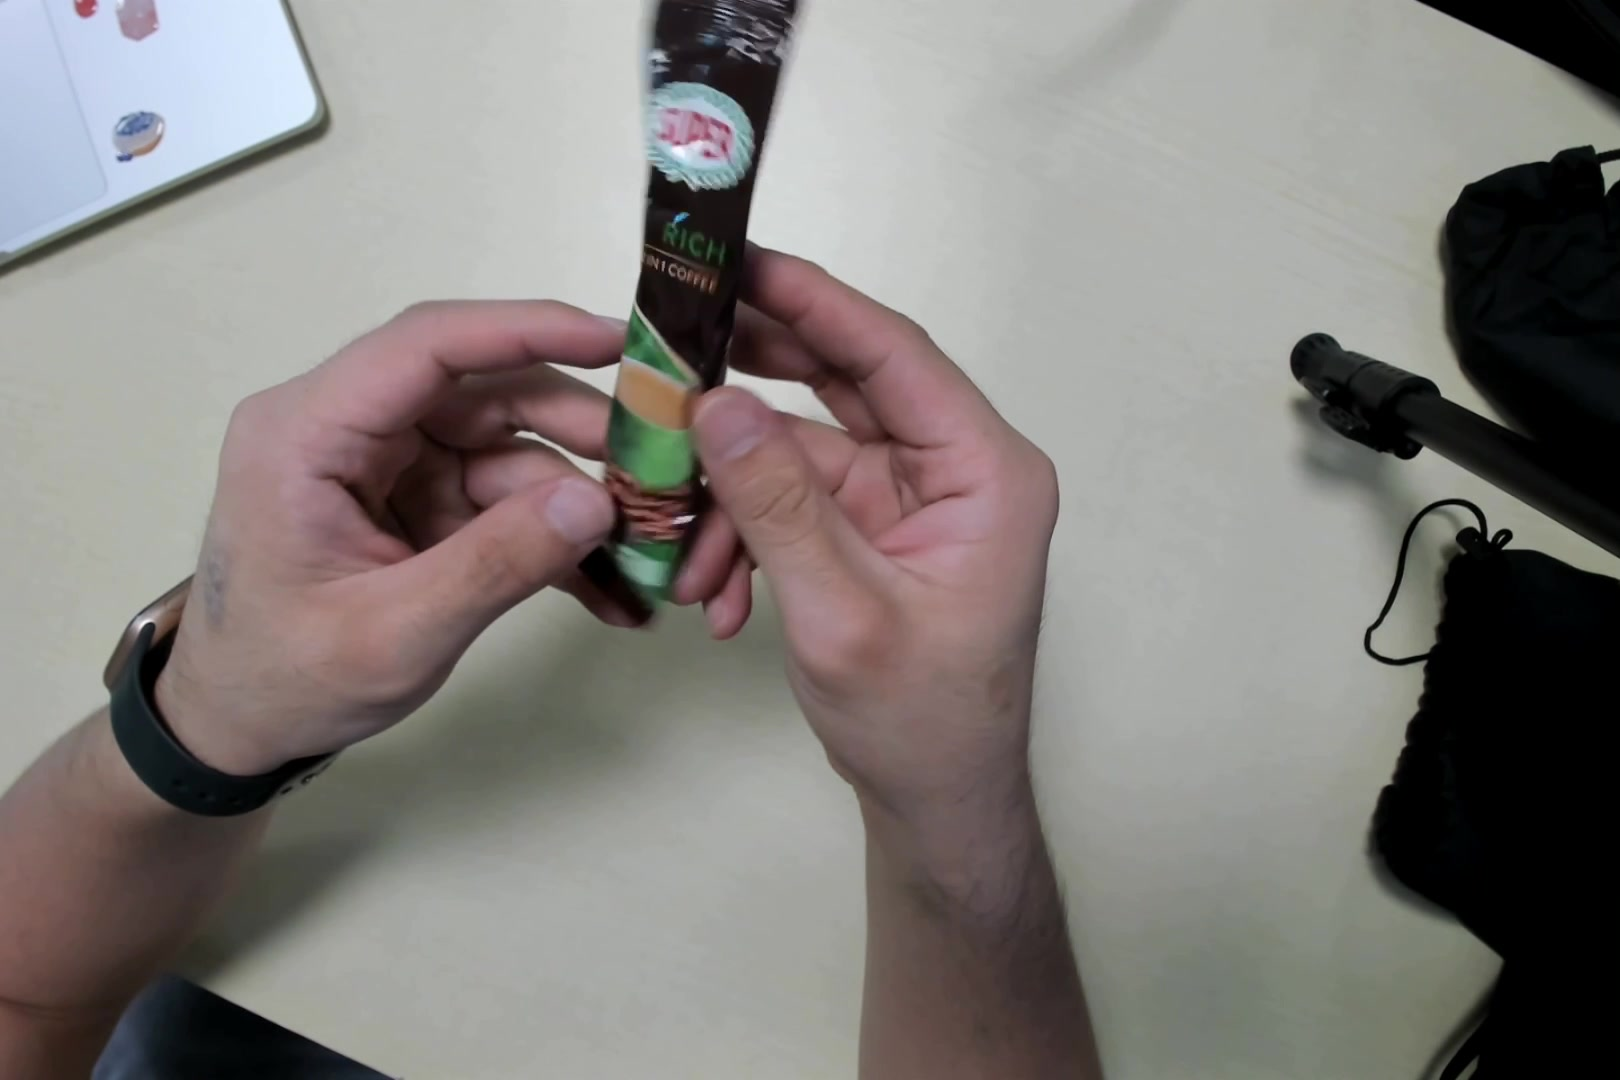Coffee(Powder)_0-99g_Halal_NonHealthy: (594, 2, 765, 617)
